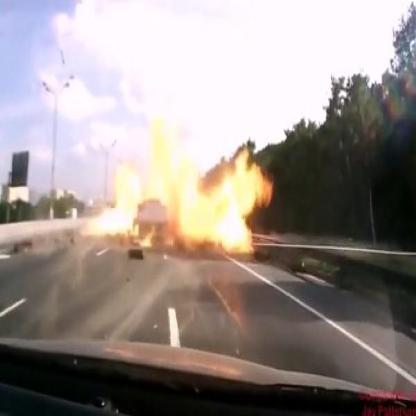fire: (85, 114, 277, 265)
